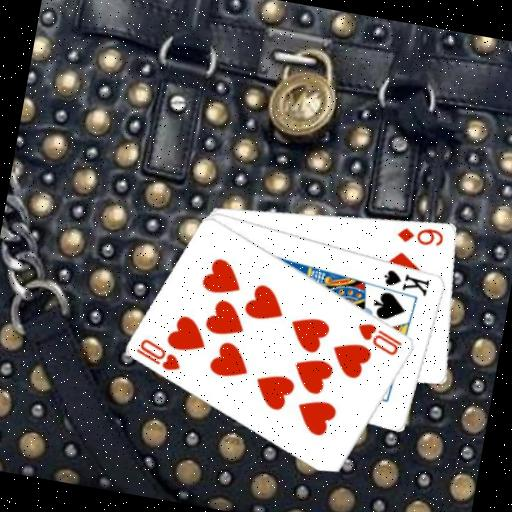10H: (351, 317, 406, 358), (131, 333, 186, 373)
6D: (393, 219, 447, 249)
KS: (379, 265, 433, 297)
